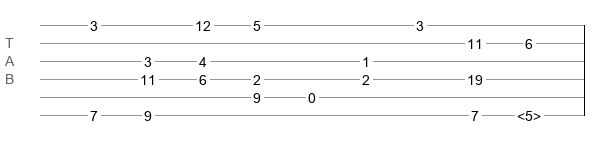0: (308, 90, 316, 100)
1: (362, 54, 370, 64)
11: (140, 72, 156, 82), (467, 36, 483, 46)
12: (195, 18, 211, 28)
19: (467, 72, 483, 82)
2: (253, 72, 261, 82), (362, 72, 370, 82)
3: (90, 18, 98, 28), (144, 54, 152, 64), (416, 18, 424, 28)
4: (199, 54, 207, 64)
5: (253, 18, 261, 28)
6: (199, 72, 207, 82), (525, 36, 533, 46)
7: (90, 108, 98, 118), (471, 108, 479, 118)
9: (144, 108, 152, 118), (253, 90, 261, 100)
harmonic: (517, 108, 541, 118)
